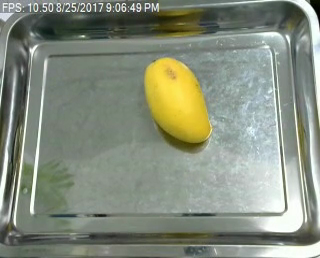Mango: (139, 53, 222, 147)
